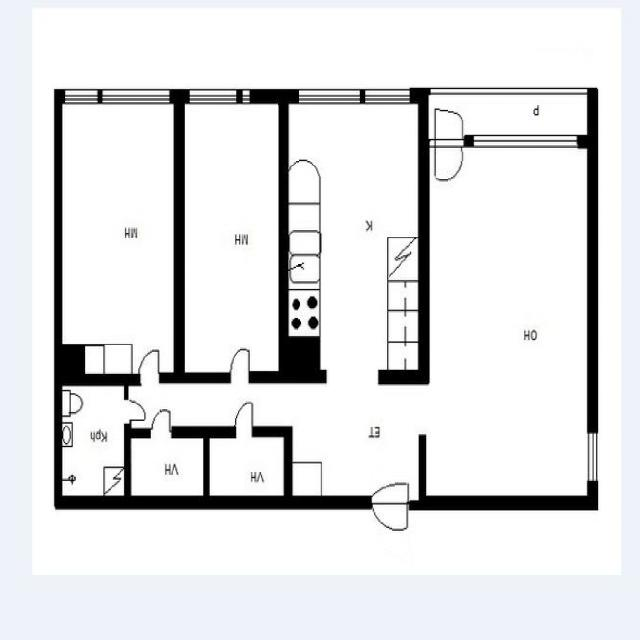door: (371, 495, 408, 558), (371, 446, 408, 508), (434, 97, 462, 147), (434, 134, 462, 184), (138, 345, 158, 383), (150, 400, 170, 437), (230, 347, 250, 383), (234, 402, 252, 437), (124, 398, 147, 421)
